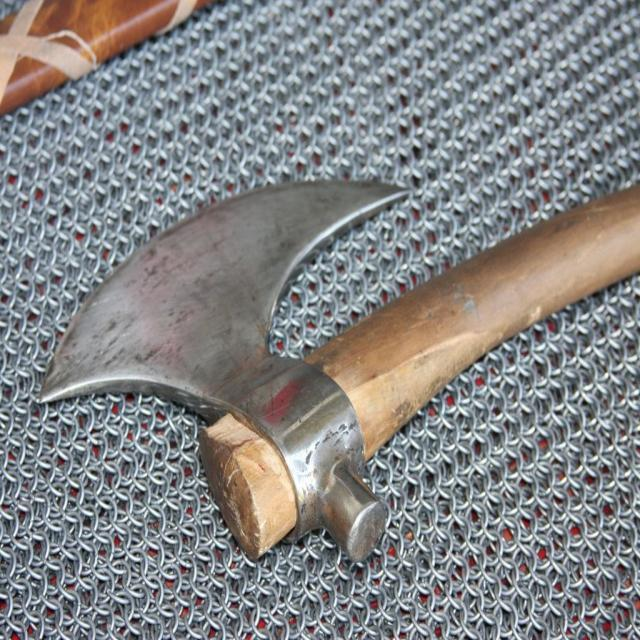Axe: (40, 181, 639, 559)
